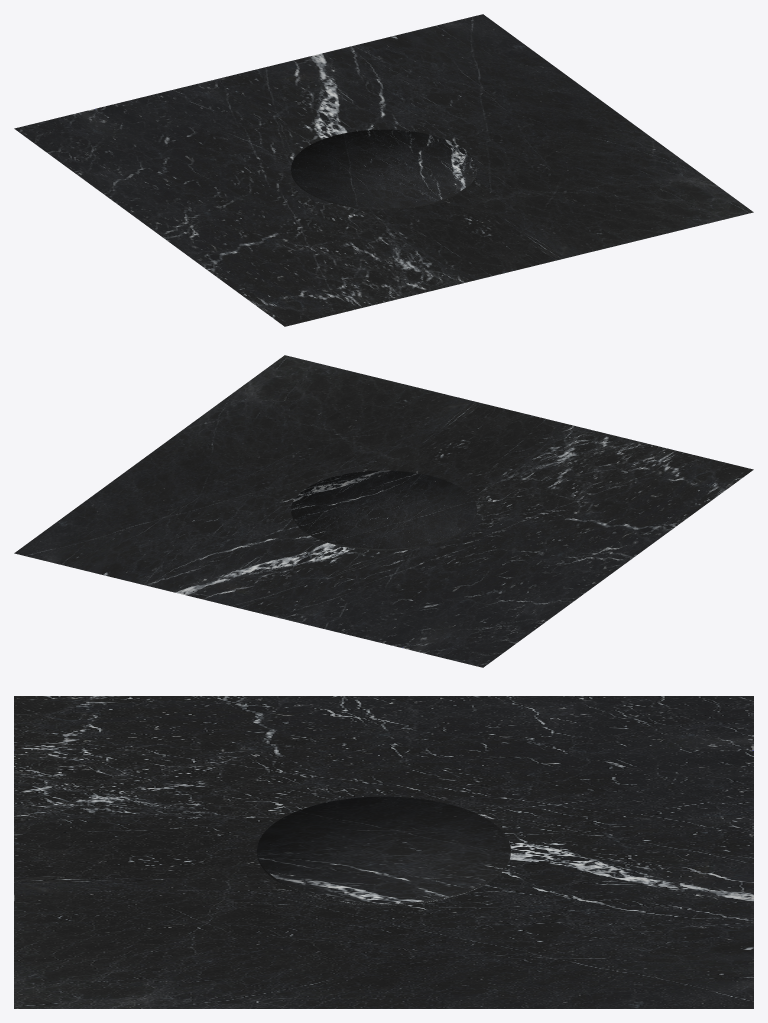
The model's file is stage2.0.glb.
3 views of the same model, one above another, from view 1: azimuth 30°, elevation 25°; view 2: azimuth 150°, elevation 25°; view 3: azimuth 270°, elevation 25° (orthographic). The views are drawn at different scales.
Visible parts, largest first — view 1: Plane; view 2: Plane; view 3: Plane.
Part boxes in pixels (x1=…): Plane: x1=14, y1=14, x2=753, y2=326; Plane: x1=14, y1=355, x2=753, y2=667; Plane: x1=14, y1=696, x2=753, y2=1008.
Size of the model in its own units: 39.41 by 0.6496 by 39.41.
Materials: 2 (2 with a texture image).
